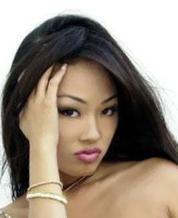face: (59, 94, 115, 163)
